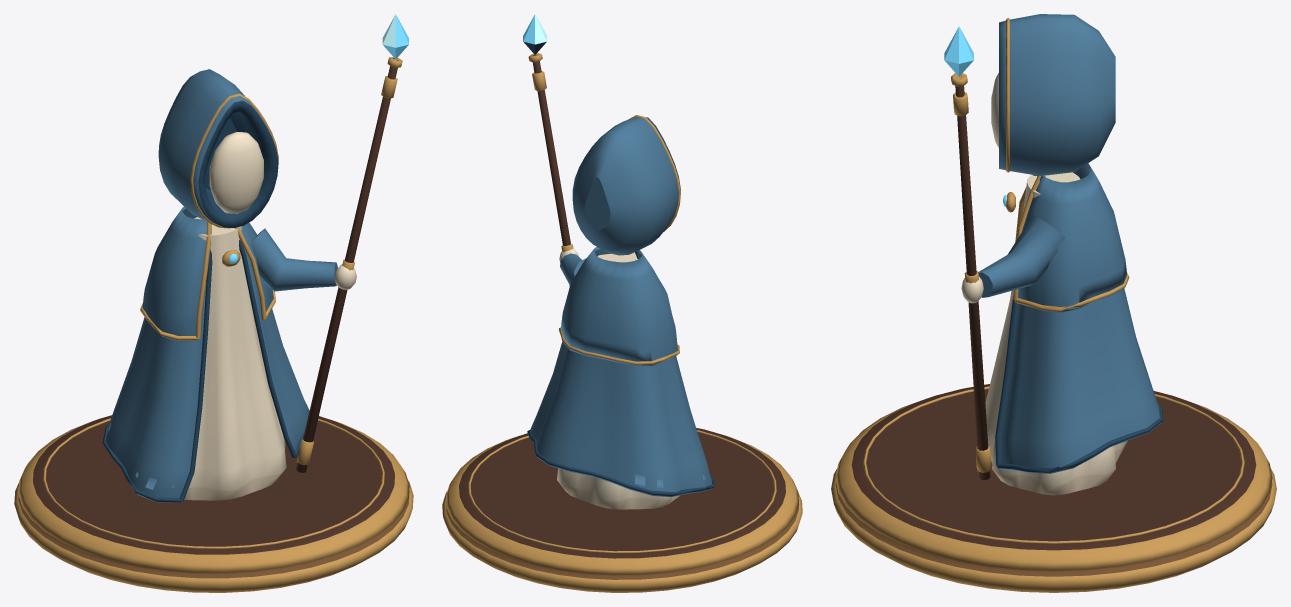
The model's file is pawn_notia.glb.
The picture shows the model from 3 angles, left to right: view 1: azimuth 30°, elevation 25°; view 2: azimuth 150°, elevation 25°; view 3: azimuth 270°, elevation 25°; orthographic projection. The views are drawn at different scales.
Parts seen in each view (by area): view 1: pawn_notia; view 2: pawn_notia; view 3: pawn_notia.
Boxes of the visible parts, x1,y1,x2,y2 form: pawn_notia: [14, 14, 413, 592]; pawn_notia: [442, 14, 802, 592]; pawn_notia: [831, 14, 1276, 592].
Size of the model in its own units: 0.992 by 1.37 by 0.992.
